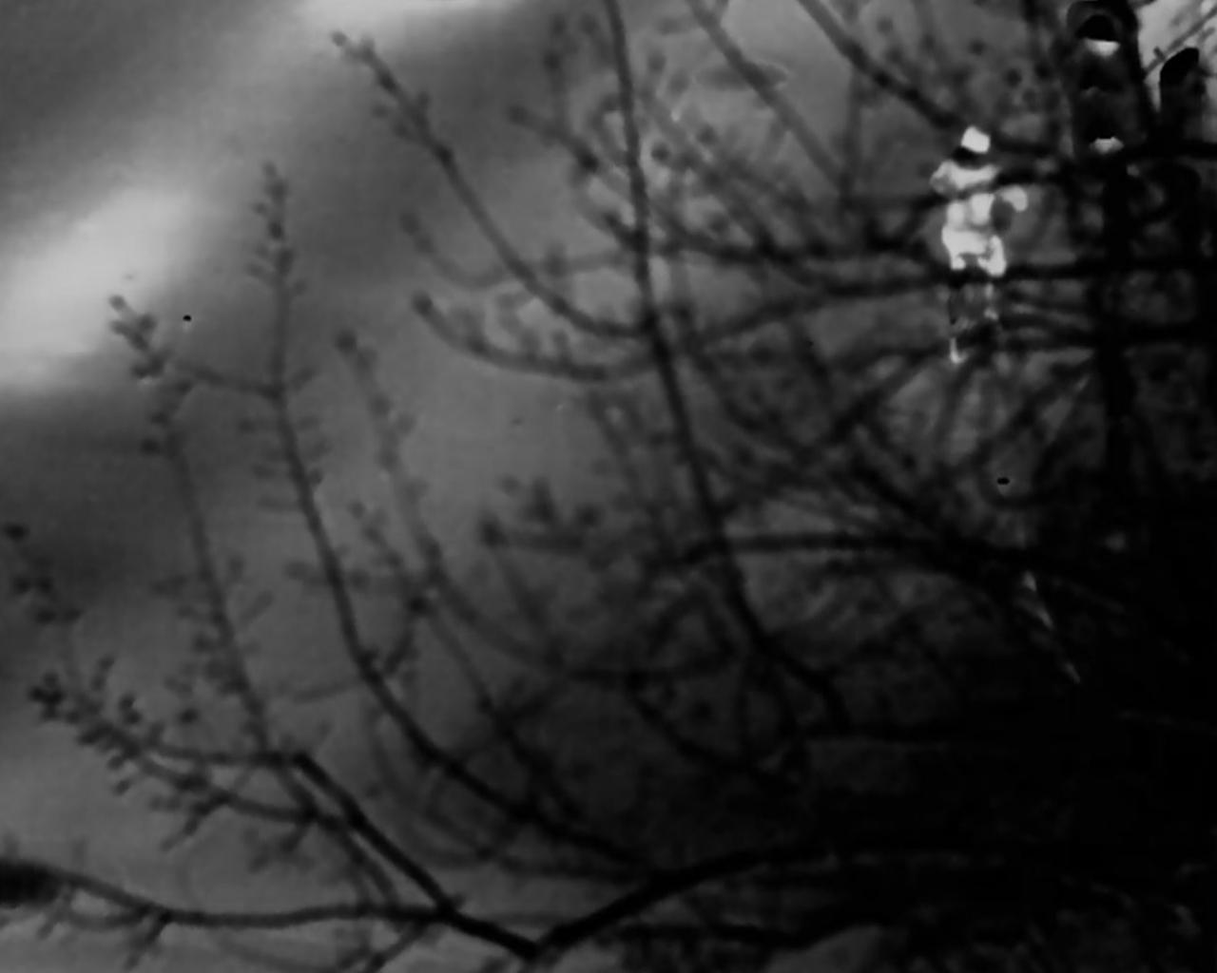person: (928, 124, 1037, 312)
